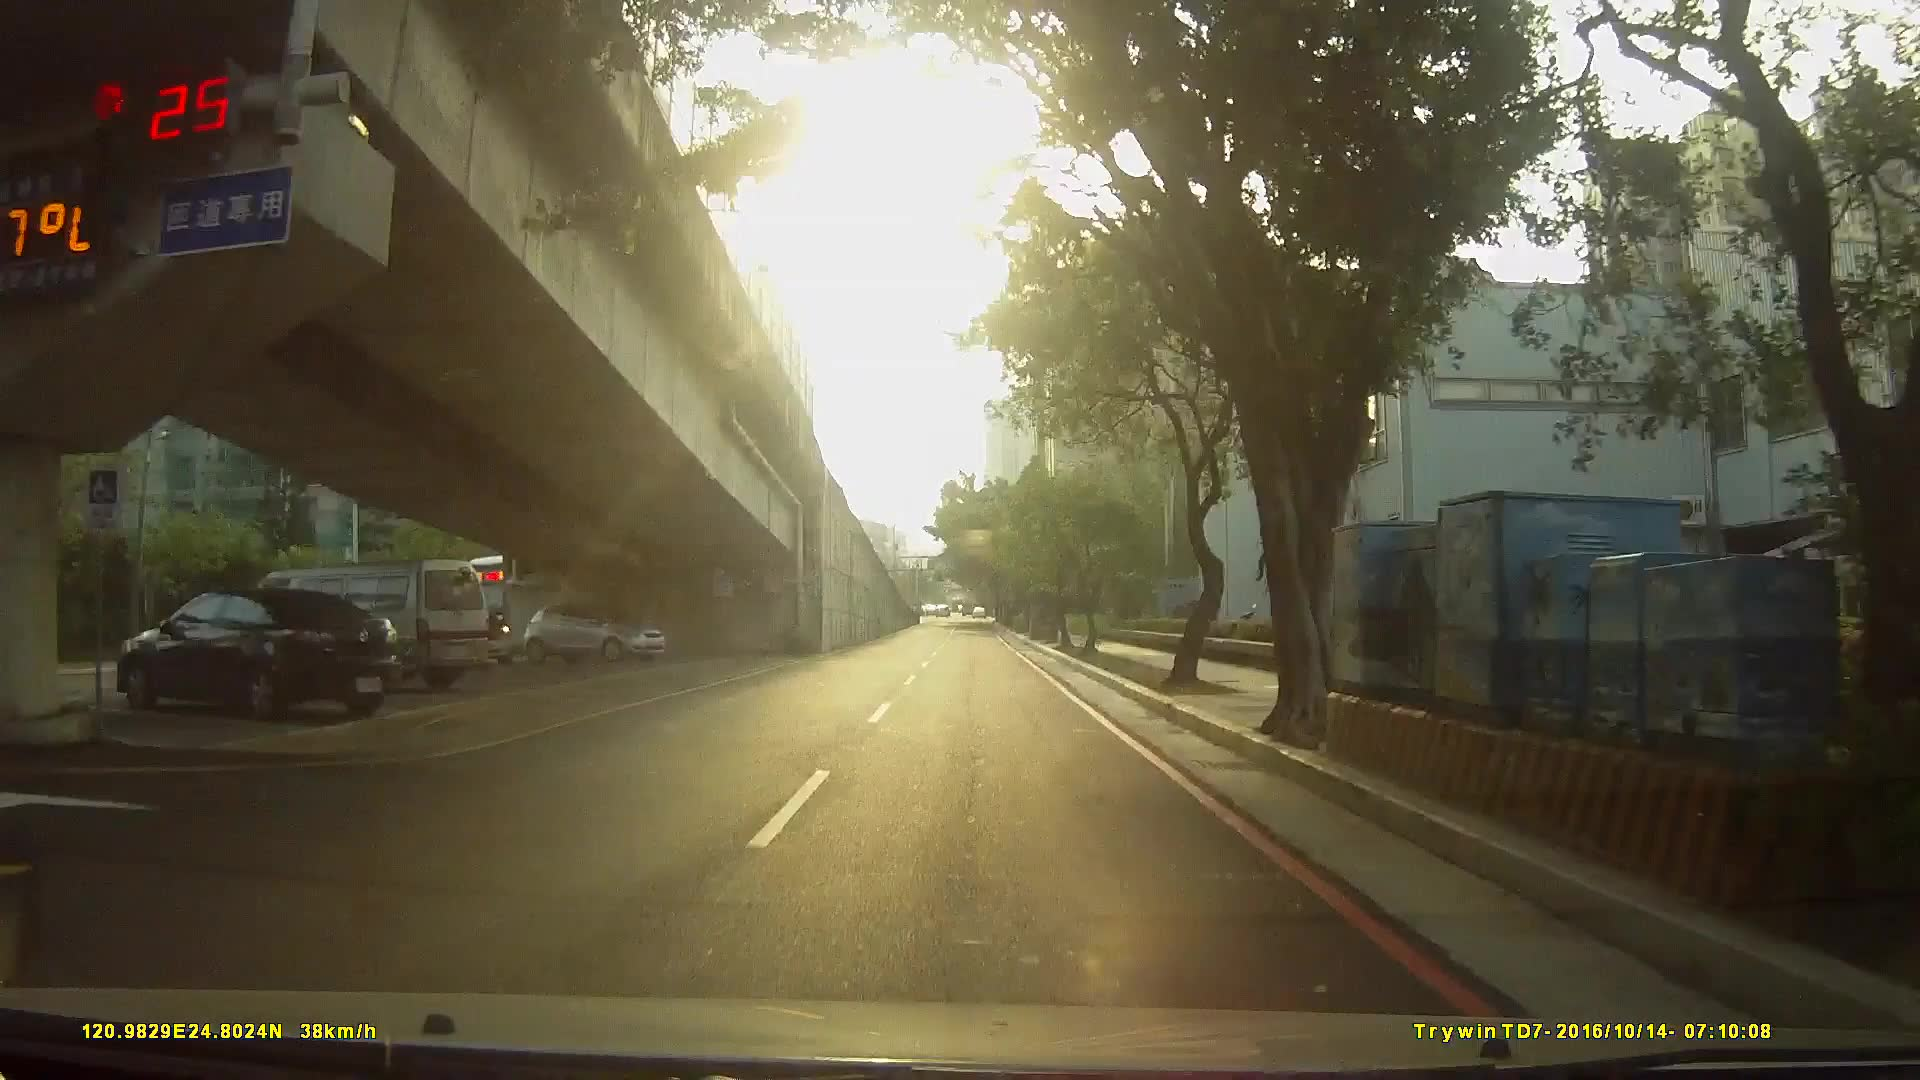vehicle: (95, 582, 402, 731), (223, 551, 502, 700), (516, 607, 663, 673)
